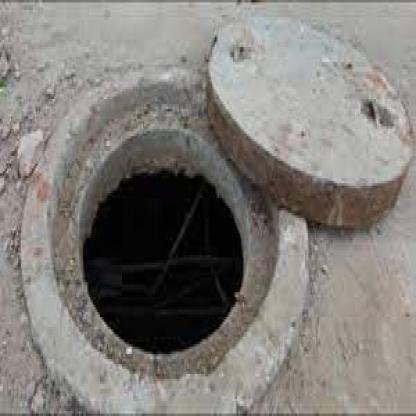open manhole-not overflowing-: (20, 20, 414, 384)
